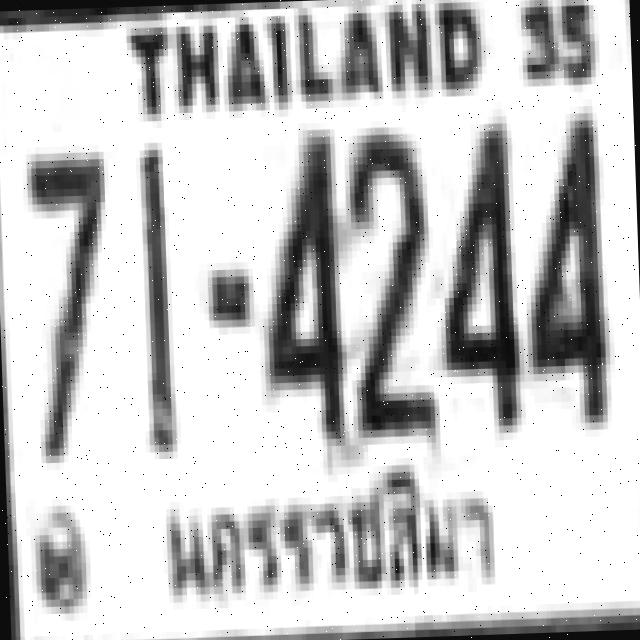1: (134, 142, 172, 452)
2: (345, 122, 428, 434)
4: (519, 110, 607, 420), (255, 125, 342, 430), (434, 116, 516, 427)
7: (21, 144, 109, 456)
NakhonRatchasima: (156, 460, 504, 620)
